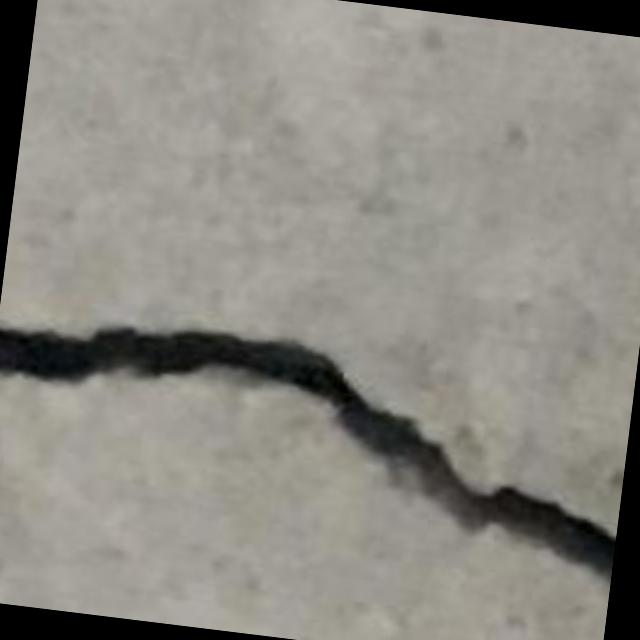crack: (0, 327, 616, 583)
